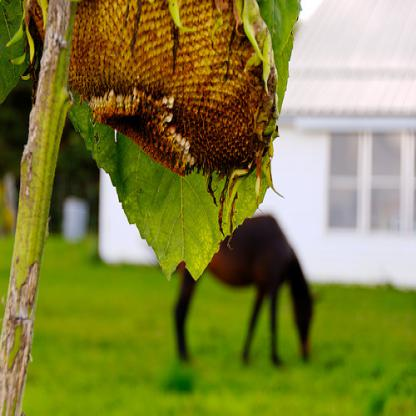horse: (166, 205, 318, 370)
